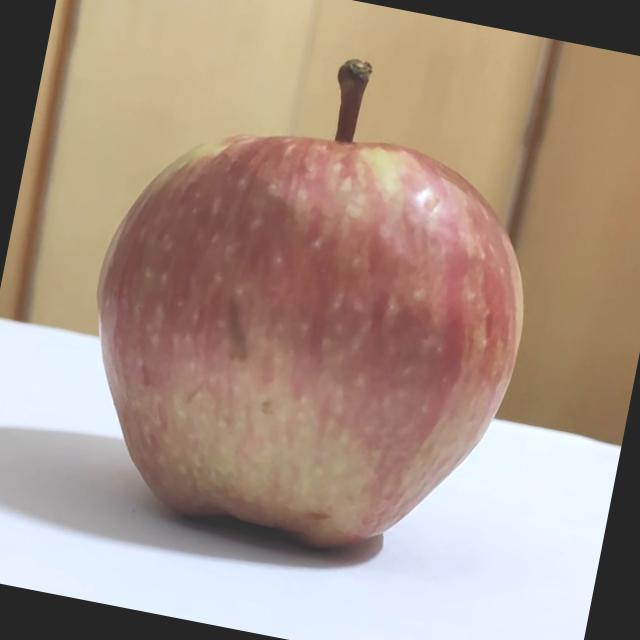apple: (47, 10, 571, 578)
